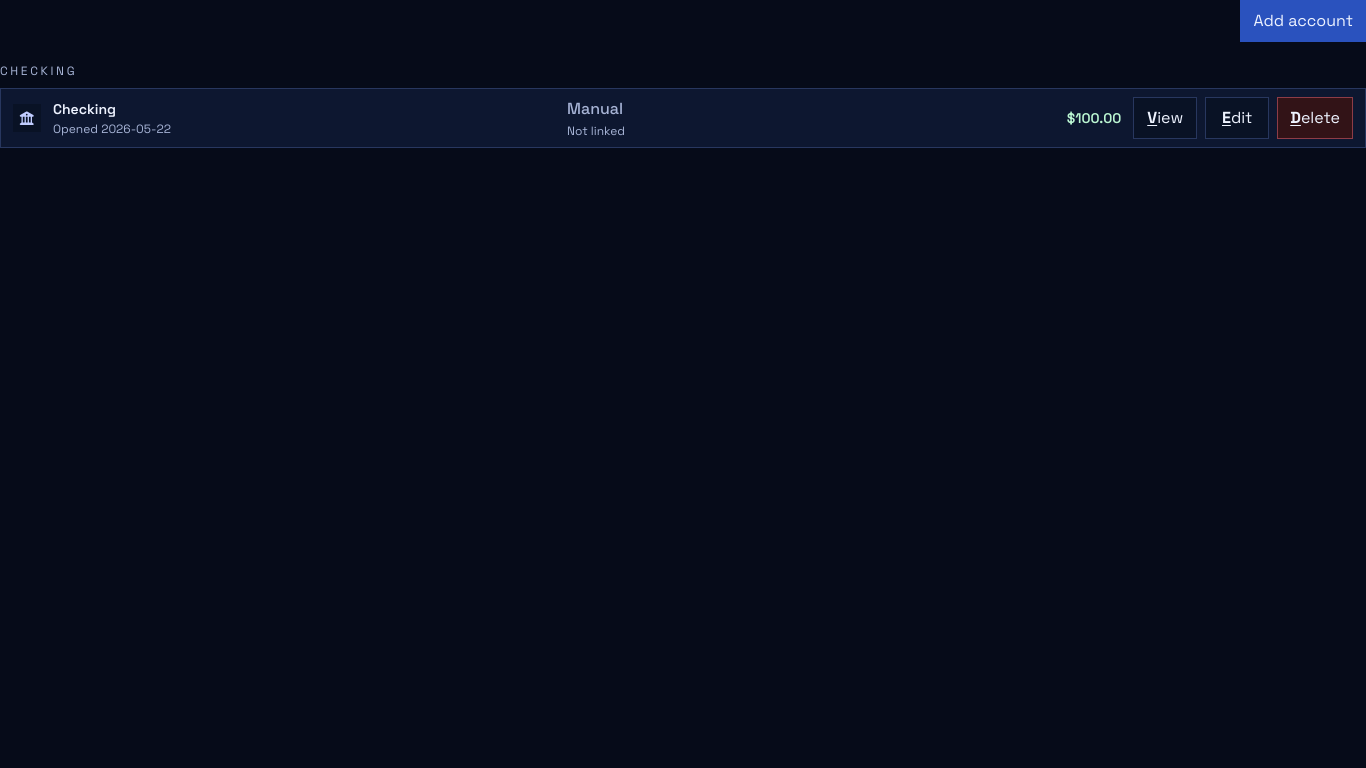
Test: US2 account and transaction flows › does not exchange a nullable Plaid Link public token
Click the button named "Edit" at (1237, 118), box [1205,97,1269,139]
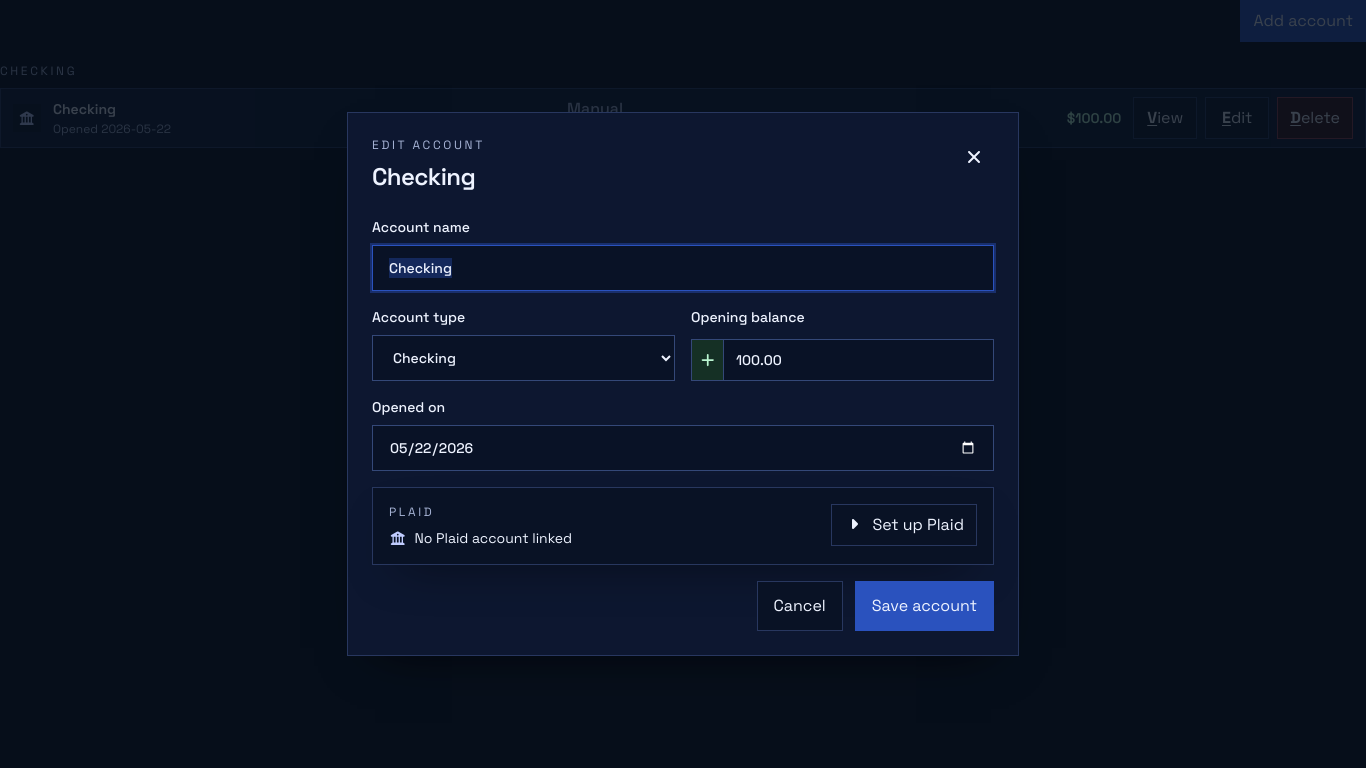
Click the button "Set up Plaid" at (904, 525), box [831,504,977,546]
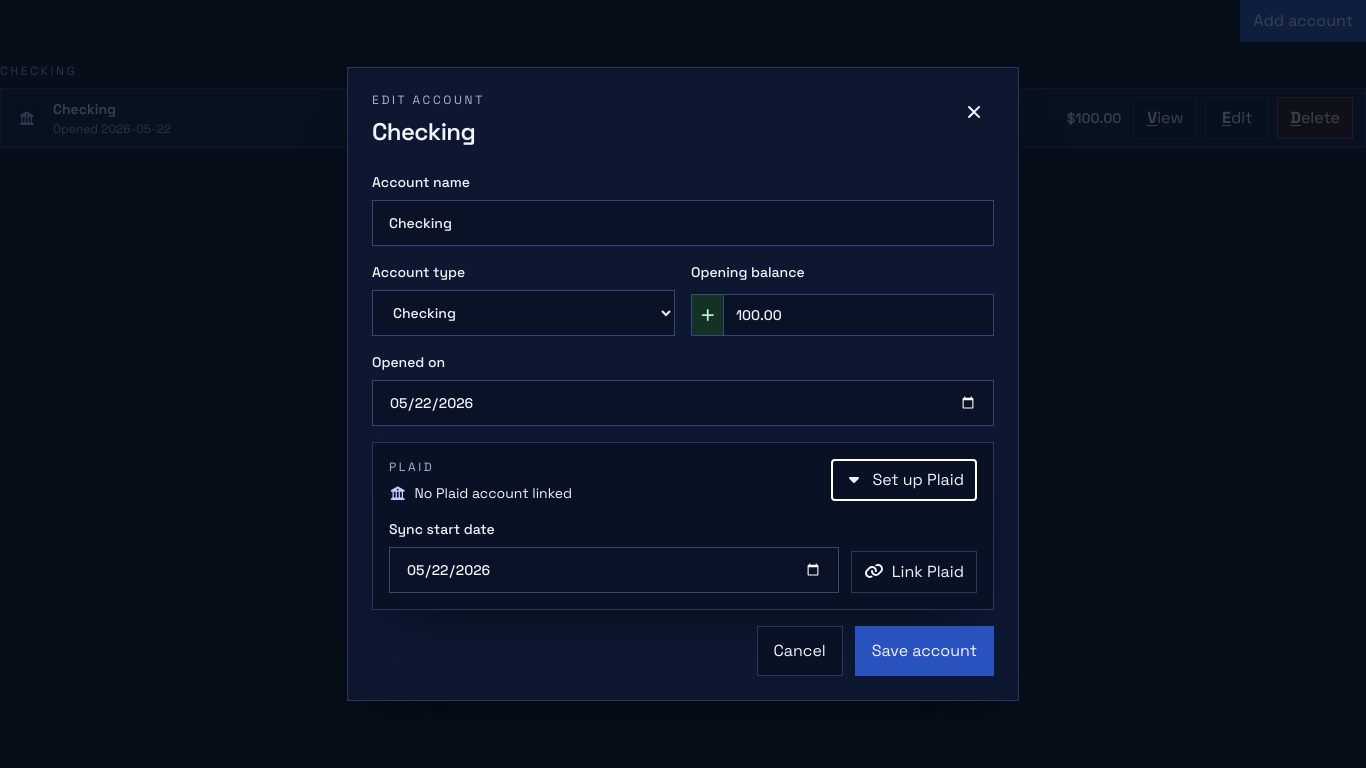
Click the button "Link Plaid" at (914, 572), box [851,551,977,593]
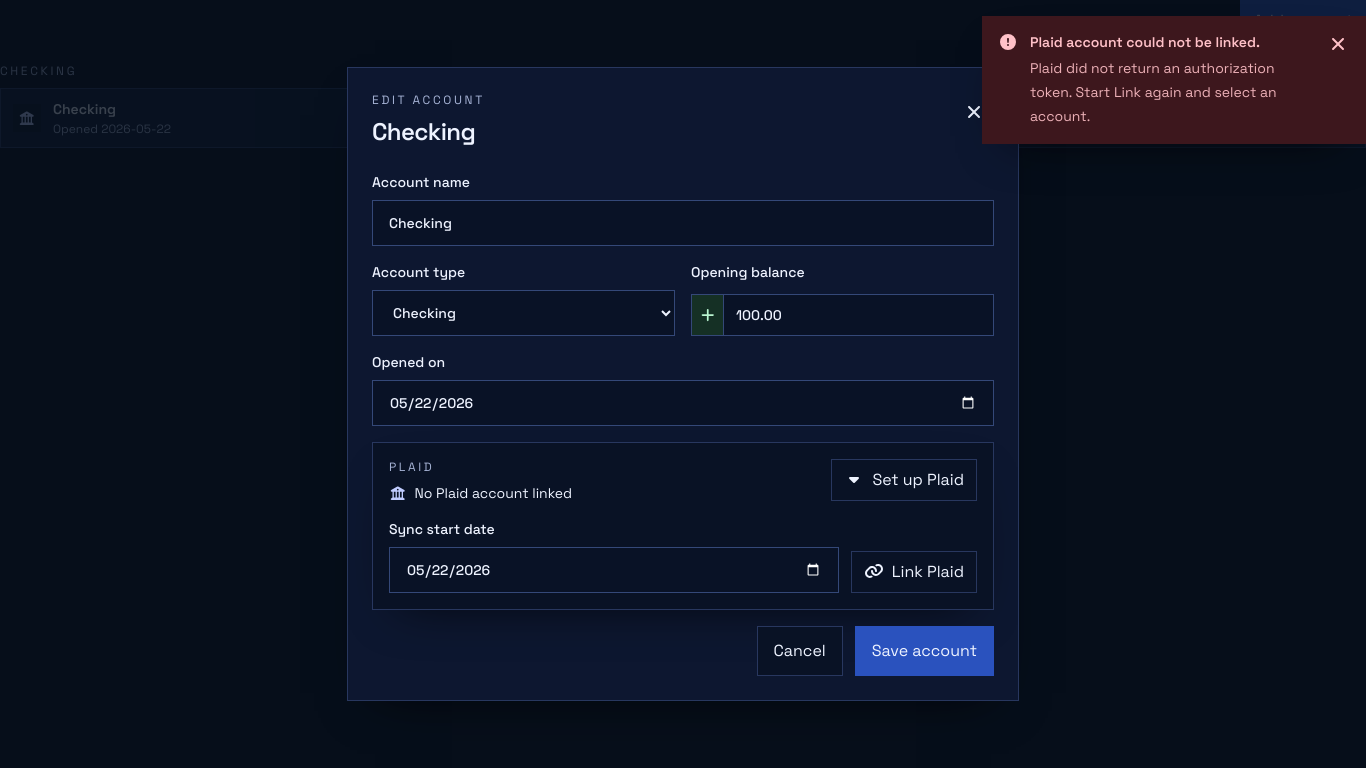
Now the text "Plaid account could not be linked." is shown, box [1030,33,1260,51]
